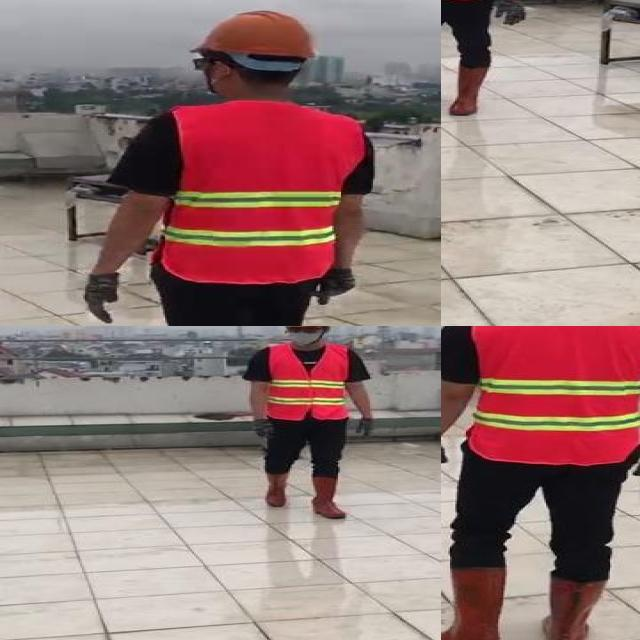boots: (441, 564, 501, 640), (542, 572, 602, 640), (448, 67, 487, 116), (311, 476, 345, 521), (265, 471, 288, 508)
face_mask: (284, 326, 323, 345)
glasses: (283, 326, 322, 335)
hand_glove: (84, 271, 122, 324), (312, 266, 360, 303), (494, 0, 526, 28), (441, 443, 451, 484), (254, 419, 274, 439), (629, 444, 640, 477), (358, 416, 376, 435)
head_helmet: (184, 8, 318, 62)
person: (68, 1, 365, 326), (441, 326, 640, 640), (244, 326, 379, 525), (441, 0, 529, 116)
vest: (170, 103, 362, 284), (468, 326, 640, 465), (268, 341, 350, 419)
